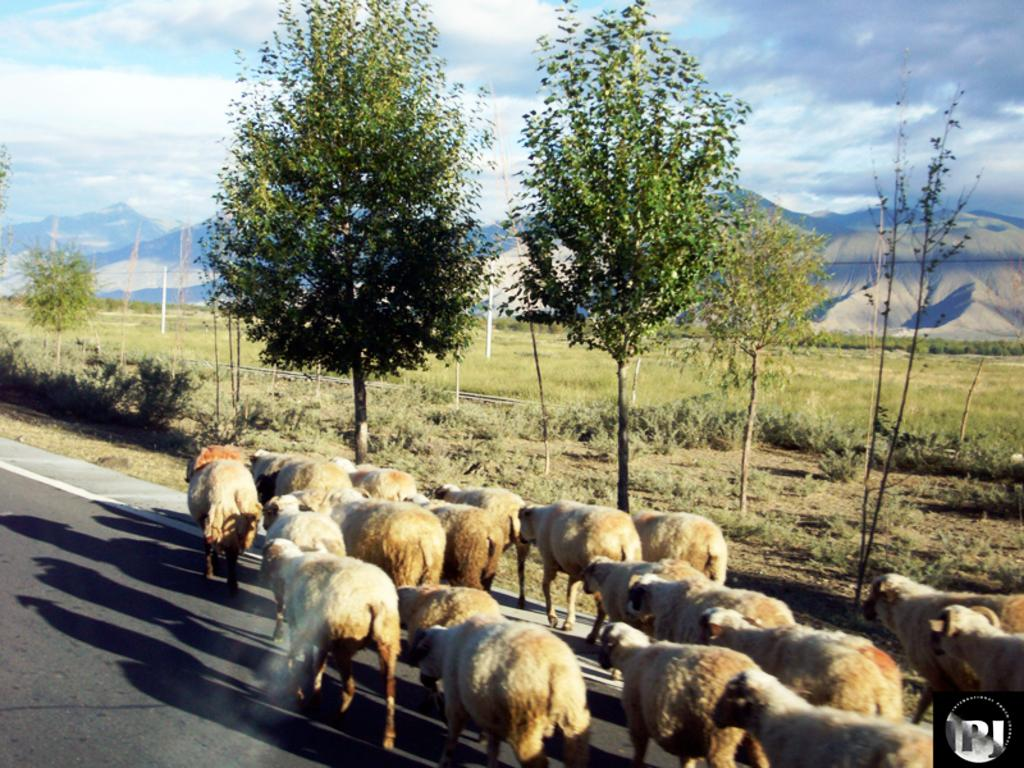Sheep: (380, 599, 588, 768), (258, 540, 402, 754), (587, 624, 769, 768), (689, 601, 896, 719), (706, 670, 951, 768), (860, 568, 1017, 688), (512, 497, 636, 629), (622, 569, 797, 662), (601, 494, 736, 589), (185, 448, 269, 589), (330, 489, 443, 593), (580, 547, 710, 630), (407, 494, 506, 599), (919, 606, 1024, 700), (246, 446, 342, 517), (261, 496, 340, 567)
